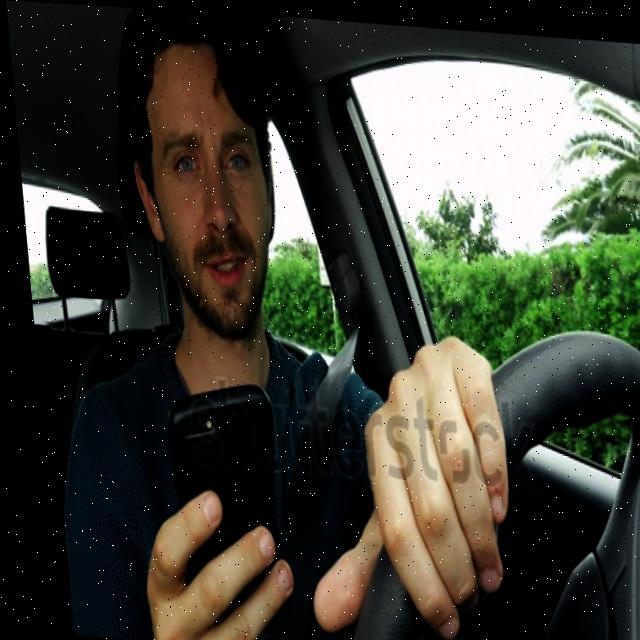PhoneCall: (150, 376, 283, 630)
